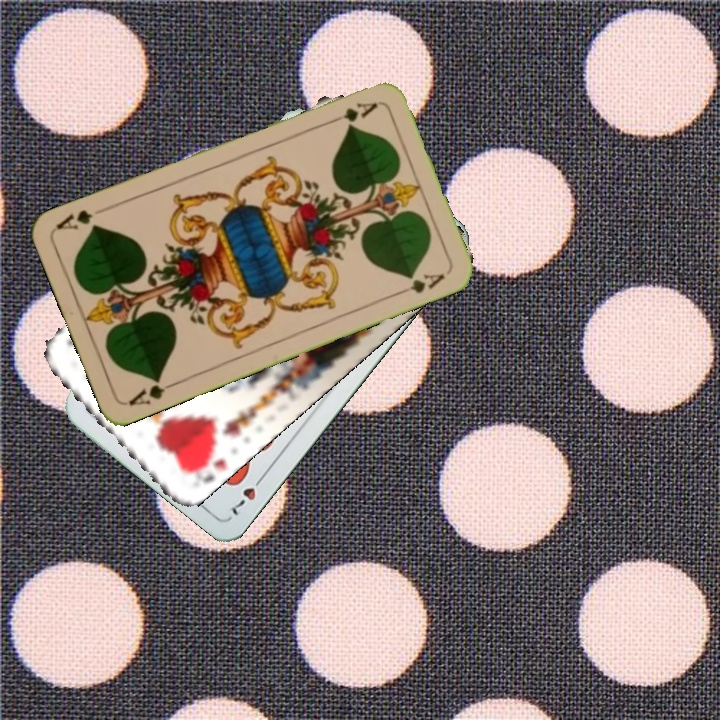GA: (124, 373, 181, 409), (324, 98, 381, 127)
H7: (225, 469, 269, 518)
HK: (183, 444, 229, 486)
